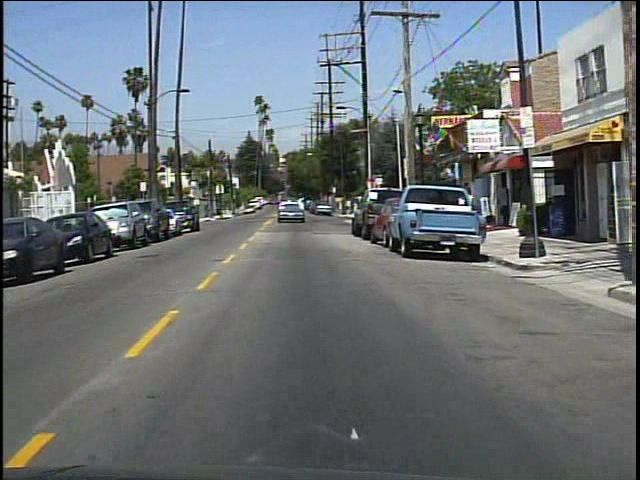person: (458, 185, 479, 233)
